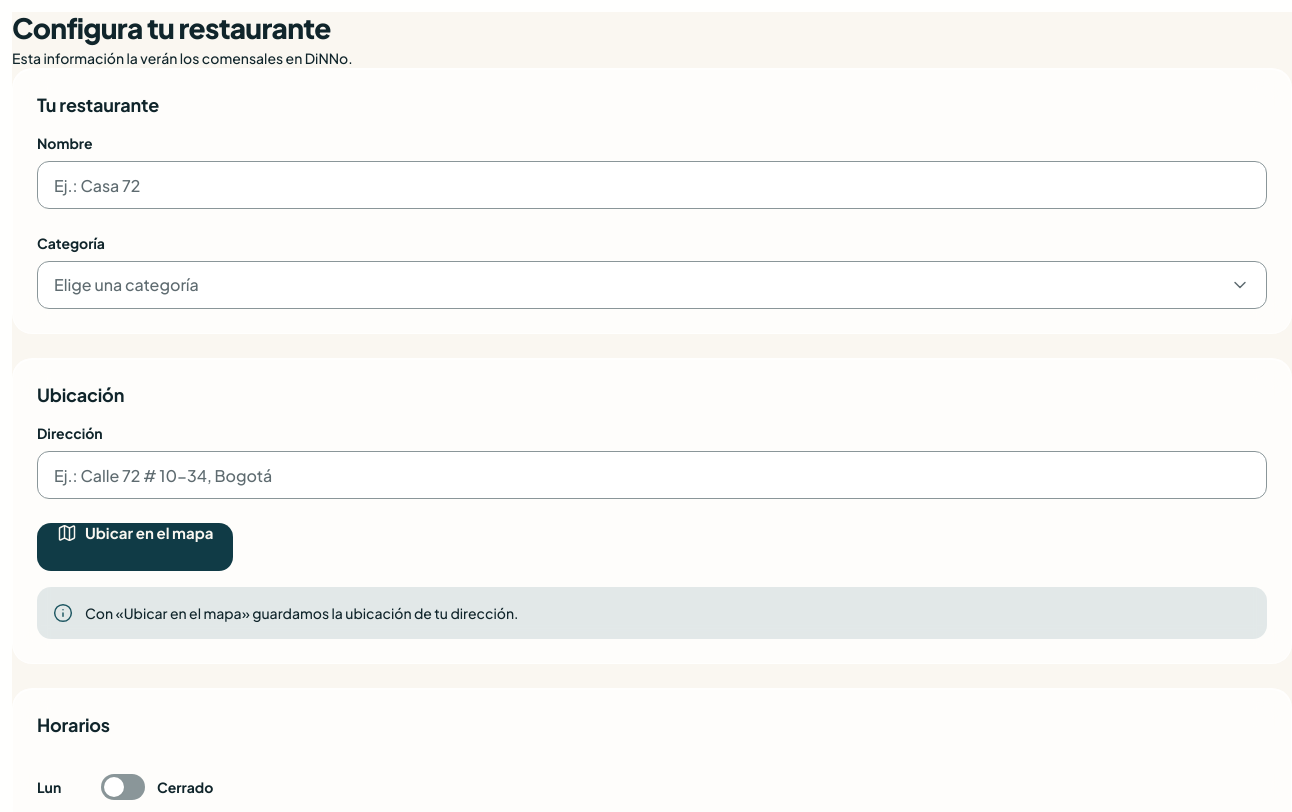
Test: OnboardingPage · registro del restaurante › opening a day brings the suggested 12:00 p. m. – 9:00 p. m.
Click the switch named "Lunes": (157, 787) [101,765,213,809]
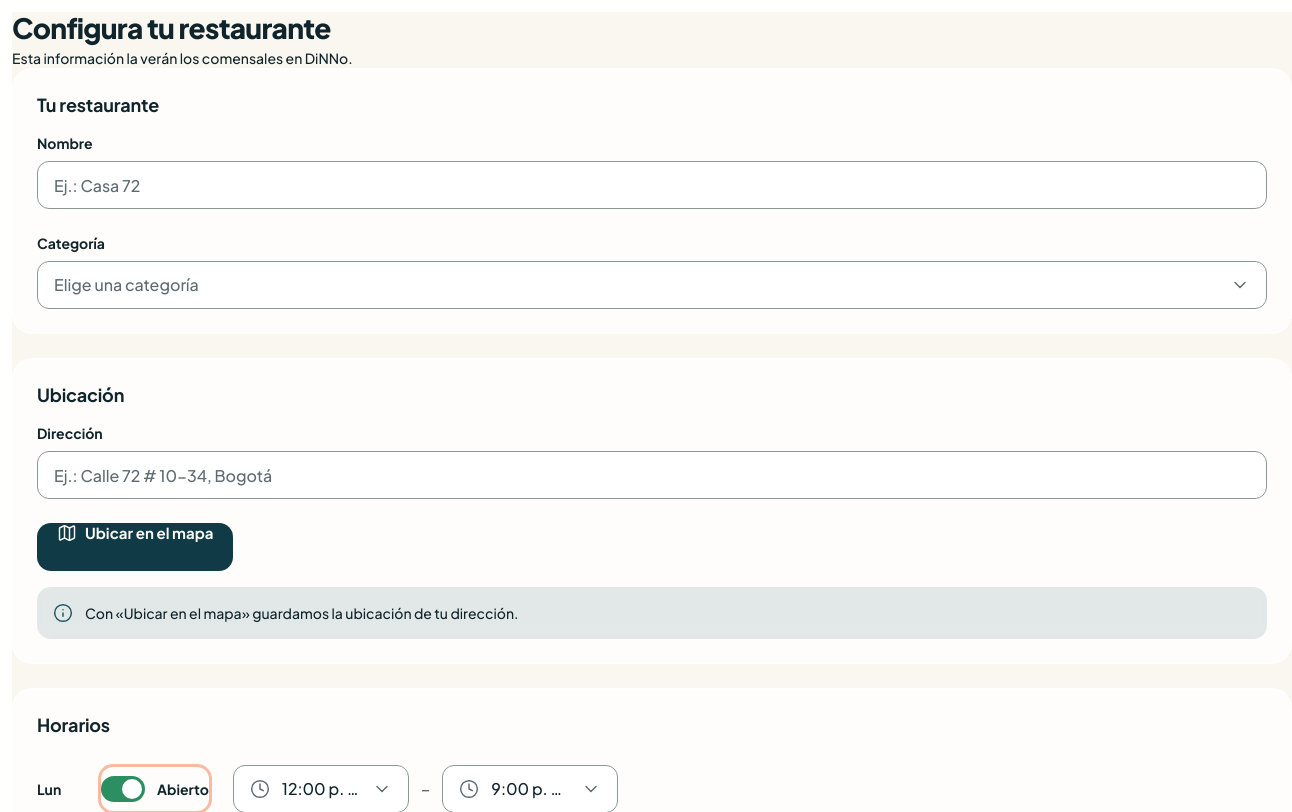
Expected: the dropdown named "Apertura del lunes" reads "12:00 p. m.", [233,765,409,811]
Expected: the dropdown named "Cierre del lunes" reads "9:00 p. m.", [442,765,618,811]
